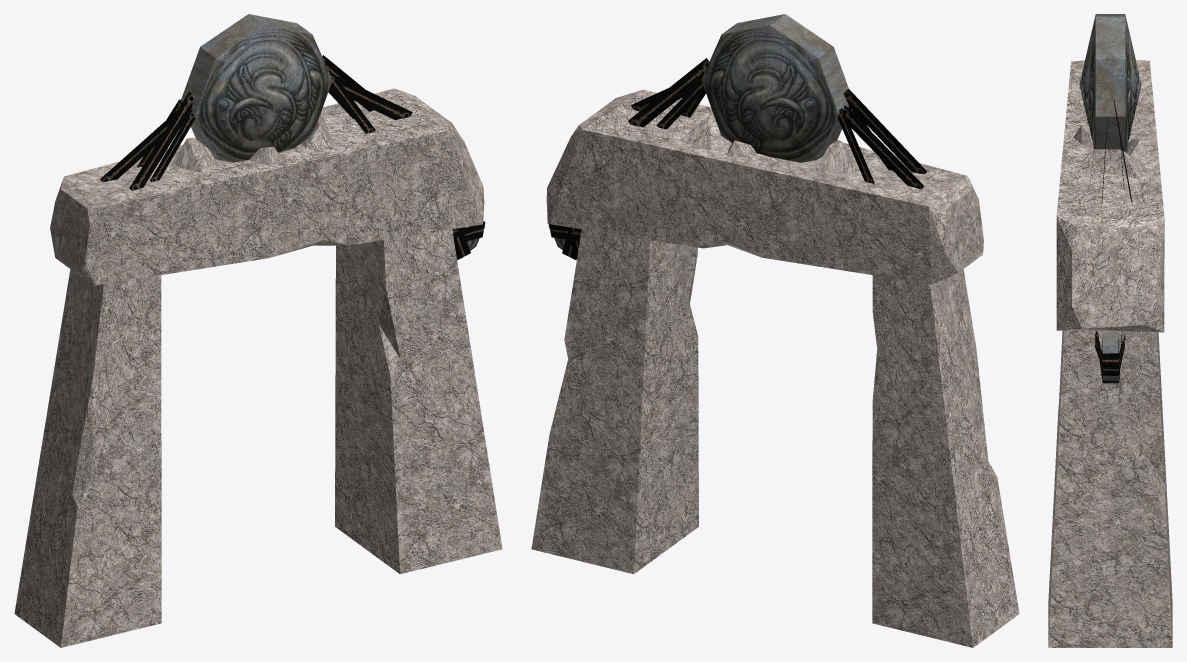
The model's file is thm_dath_mtn_clan_gate_s01_l1.fbx.
The picture shows the model from 3 angles, left to right: view 1: azimuth 30°, elevation 25°; view 2: azimuth 150°, elevation 25°; view 3: azimuth 270°, elevation 25°; orthographic projection. The views are drawn at different scales.
Parts seen in each view (by area): view 1: mesh_node; view 2: mesh_node; view 3: mesh_node.
Part boxes in pixels (x1,y1,x2,y2): mesh_node: [14, 14, 502, 647]; mesh_node: [531, 14, 1019, 647]; mesh_node: [1048, 14, 1172, 647].
Bounding box in the file's own units: 10.73 × 12.89 × 2.73.
